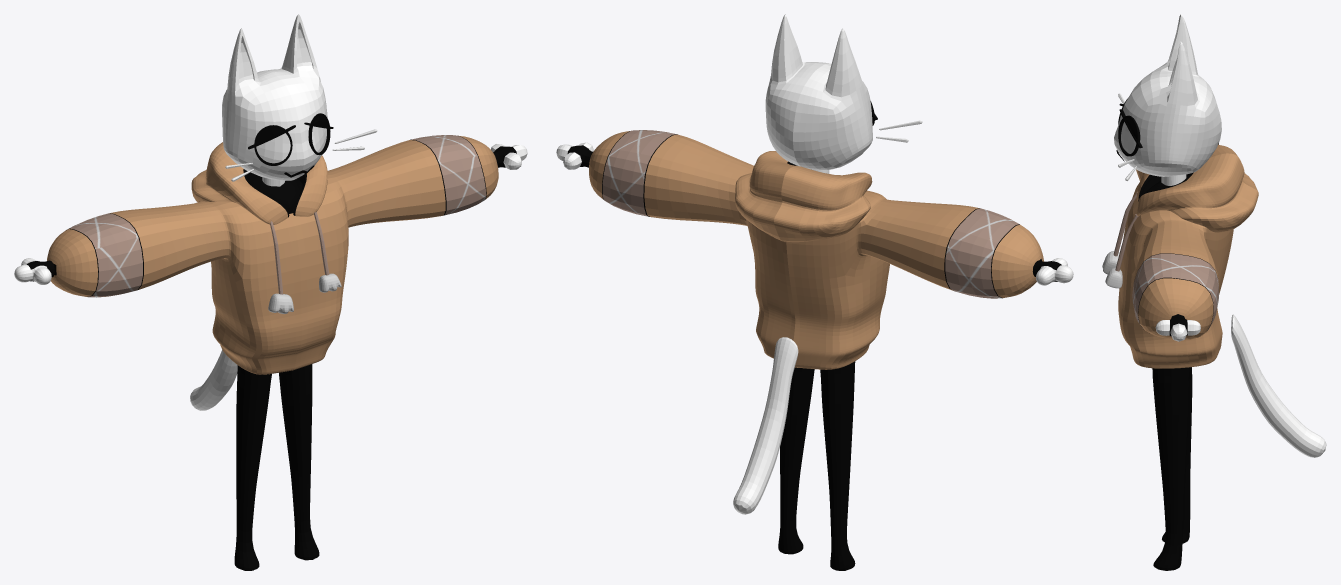
The model's file is semisTUedited.fbx.
3 views of the same model, side by side, from view 1: azimuth 30°, elevation 25°; view 2: azimuth 150°, elevation 25°; view 3: azimuth 270°, elevation 25° (orthographic). The views are drawn at different scales.
Visible parts, largest first — view 1: Body3; view 2: Body3; view 3: Body3.
Boxes of the visible parts, <box> form: Body3: <box>14,14,527,570</box>; Body3: <box>556,14,1073,570</box>; Body3: <box>1102,14,1326,570</box>.
Bounding box in the file's own units: 252 × 254 × 97.97.
Materials: 3 (1 with a texture image).
